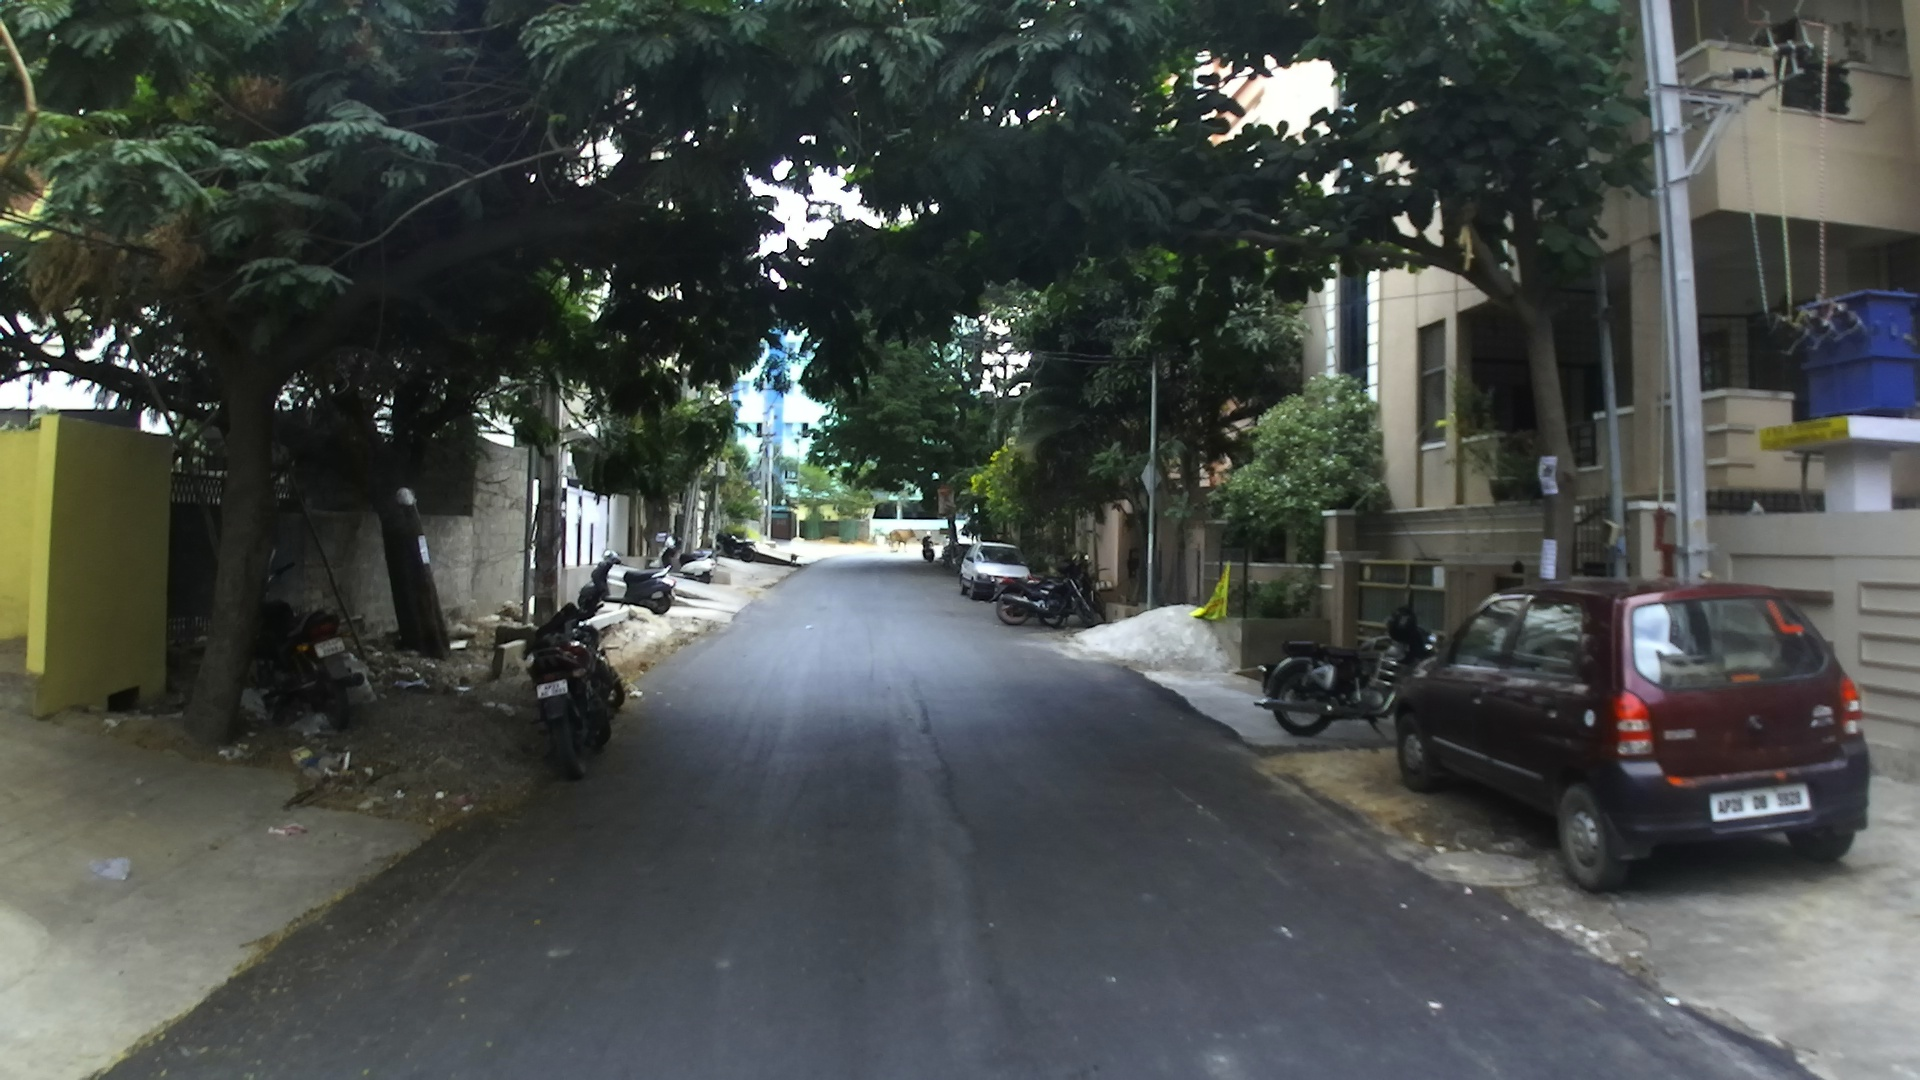vehicle: (1391, 579, 1873, 893), (1263, 608, 1432, 738), (530, 615, 625, 781), (1262, 632, 1404, 738), (957, 543, 1033, 601), (599, 560, 675, 615)
